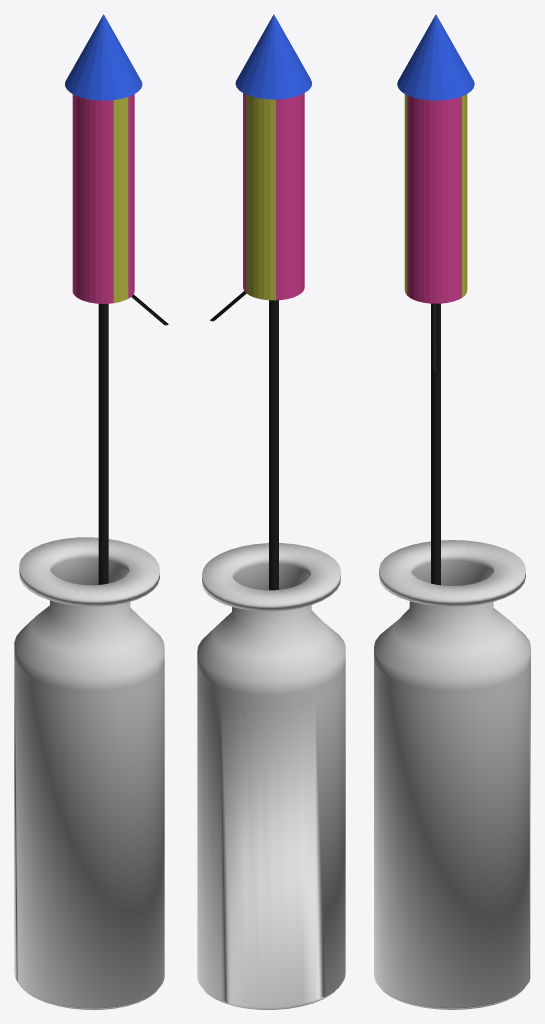
The model's file is ARWorkshop.fbx.
The picture shows the model from 3 angles, left to right: view 1: azimuth 30°, elevation 25°; view 2: azimuth 150°, elevation 25°; view 3: azimuth 270°, elevation 25°; orthographic projection.
Parts seen in each view (by area): view 1: Cylinder, Cylinder.004, Cylinder.002, Cylinder.001; view 2: Cylinder, Cylinder.004, Cylinder.002, Cylinder.001; view 3: Cylinder, Cylinder.004, Cylinder.002, Cylinder.001.
Part boxes in pixels (x1,y1,x2,y2): Cylinder: (14,537,164,1009); Cylinder.004: (72,94,134,303); Cylinder.002: (65,14,142,100); Cylinder.001: (98,295,168,584); Cylinder: (197,543,345,1009); Cylinder.004: (243,93,304,300); Cylinder.002: (235,14,311,99); Cylinder.001: (210,293,278,590); Cylinder: (374,540,530,1009); Cylinder.004: (404,94,467,303); Cylinder.002: (397,14,474,100); Cylinder.001: (431,303,440,585).
Bounding box in the file's own units: 10878 × 75480 × 10985.
